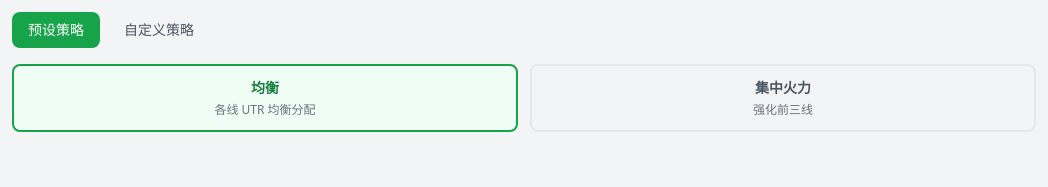
Scenario: StrategySelector › 模式切换 › 点击自定义策略按钮切换到自定义模式
Click the button "自定义策略". click: click(159, 30)
box: [108,12,210,48]
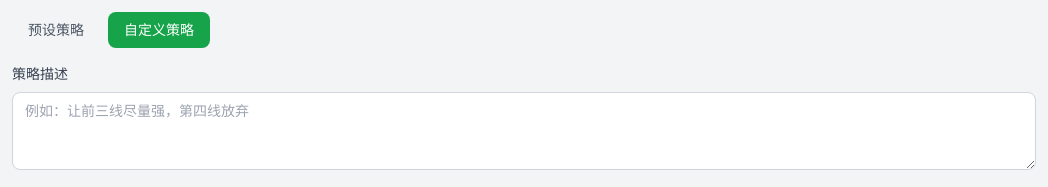
Now the text box with placeholder "例如：让前三线尽量强，第四线放弃" is shown, box [12,92,1036,170]
